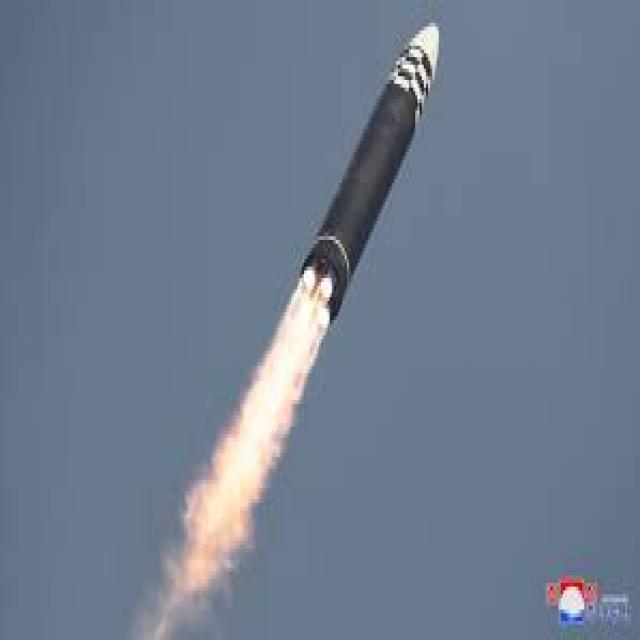rocket: (187, 15, 437, 545)
